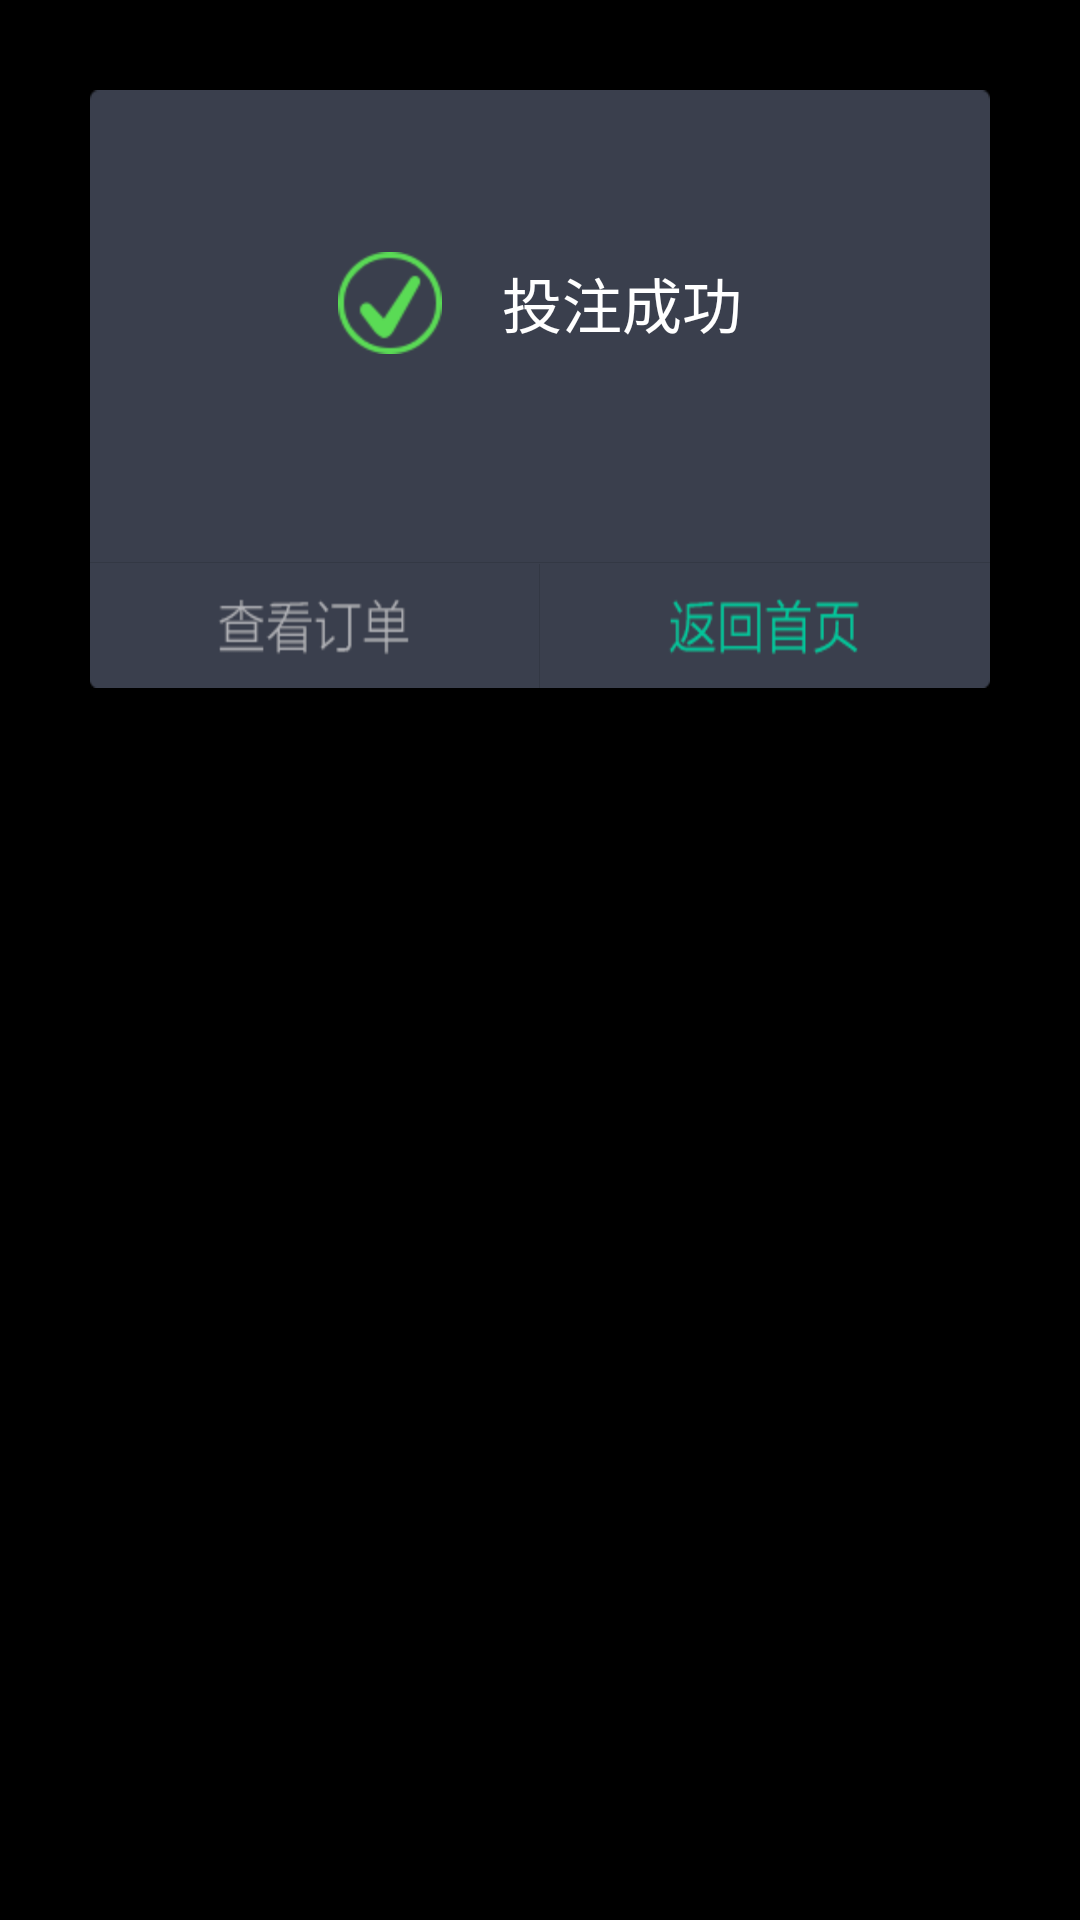

Where to tap for icons on this 1080w x 1920h app screen, as (x,y):
check: (390,303)
